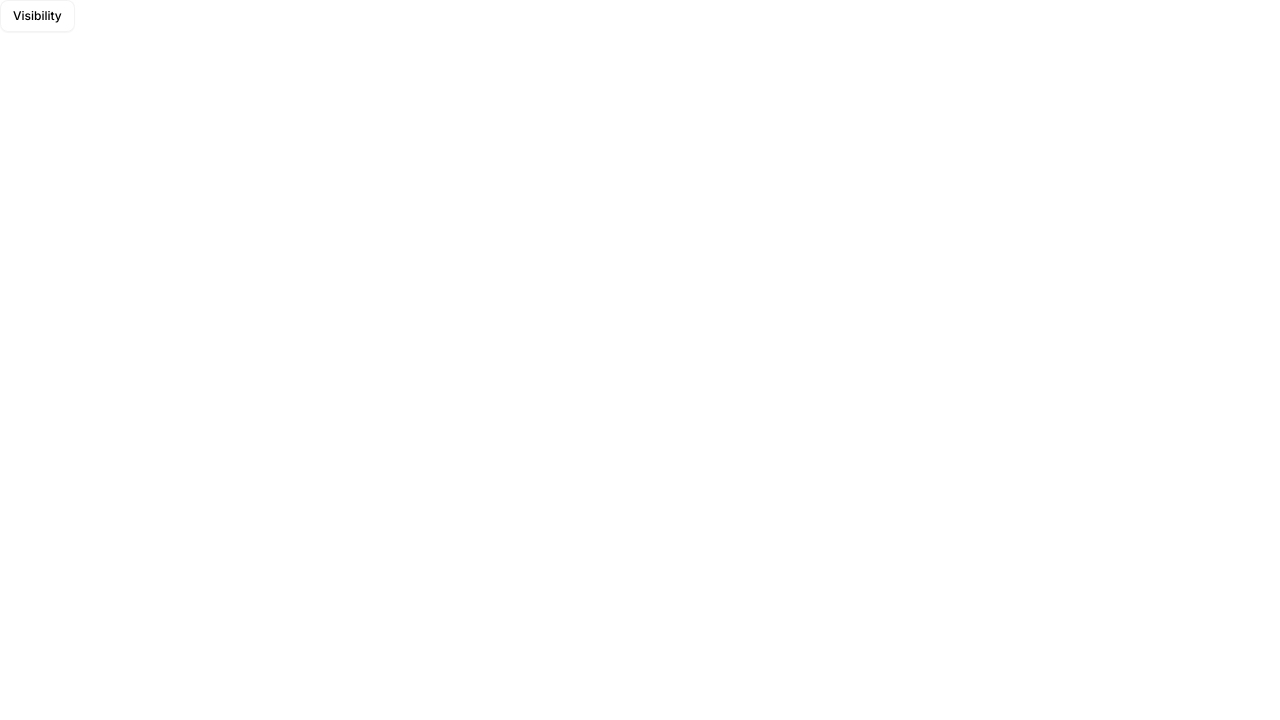
Test: SkillVisibilityDialog › shows usable dialog action labels in en without translation fallback
The width and height of the screenshot is (1280, 720).
Step 1. Click the button "Visibility" → coordinates (37, 16), box [0,0,75,32]
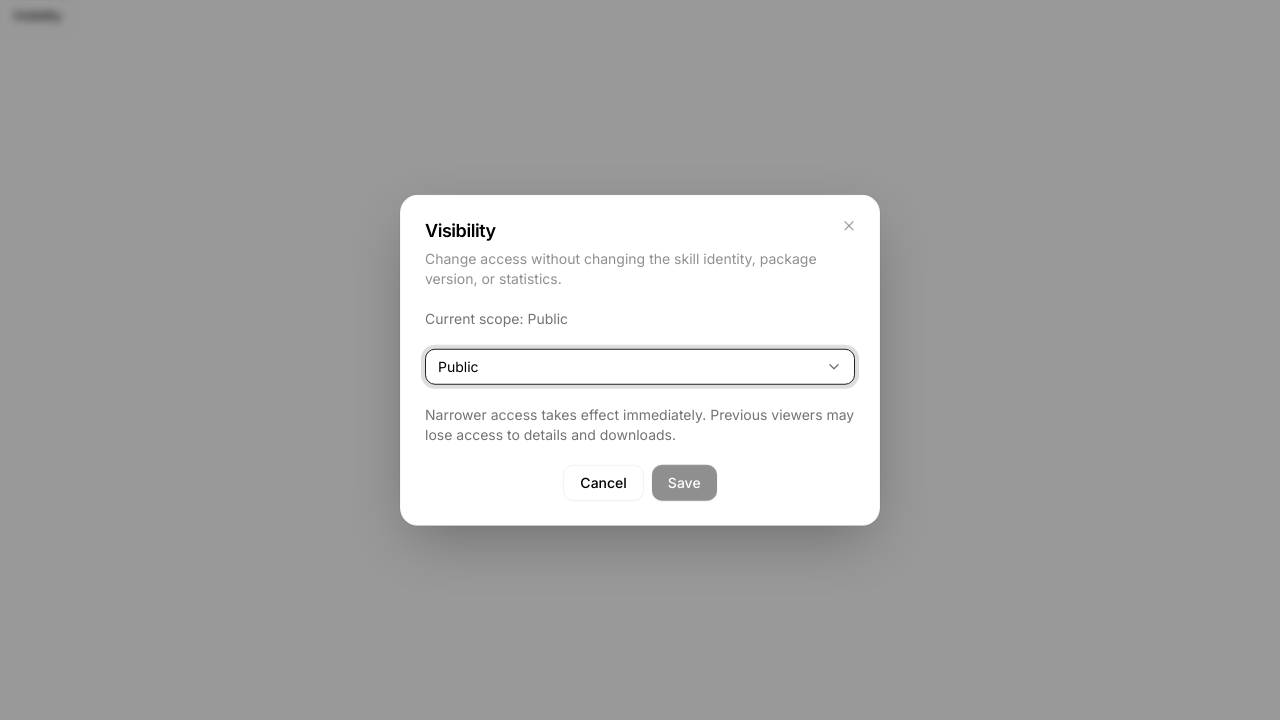
Result: the button "Cancel" is shown
Result: the button "Save" is shown at [652,464,717,500]
Step 2. Click the button "Cancel" → coordinates (604, 482), box [563,464,644,500]
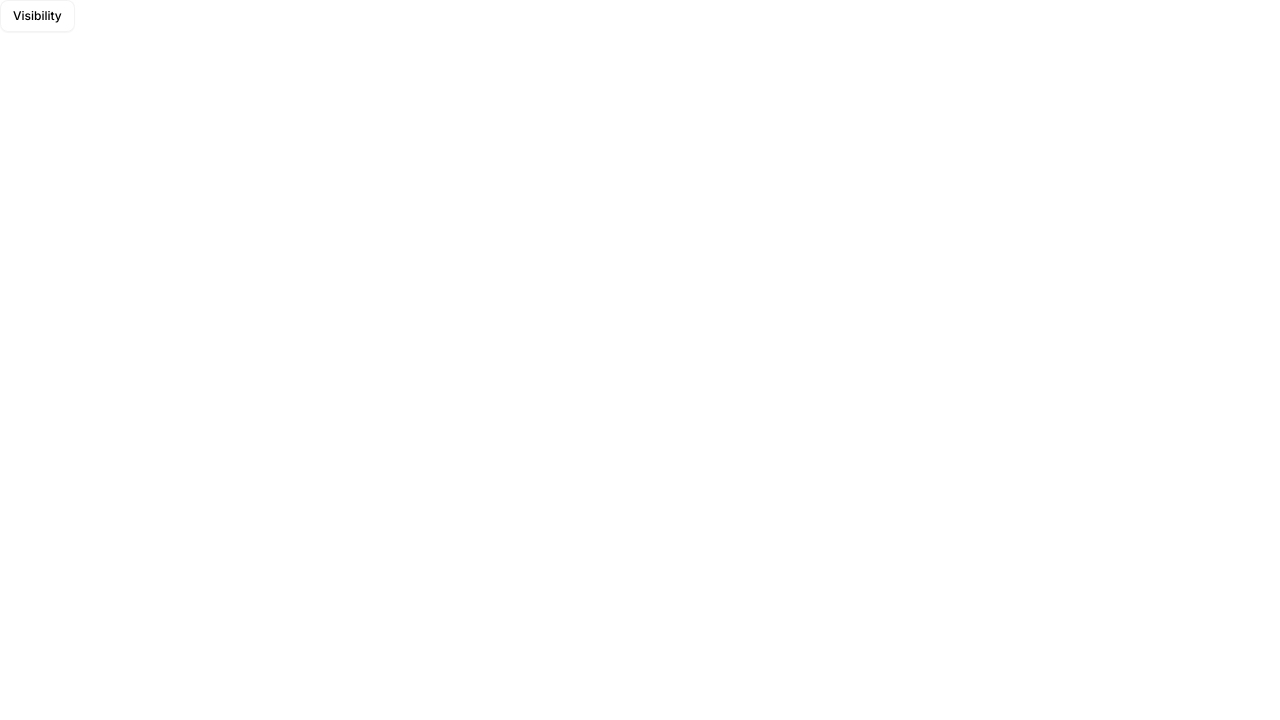
Result: the dialog is gone
